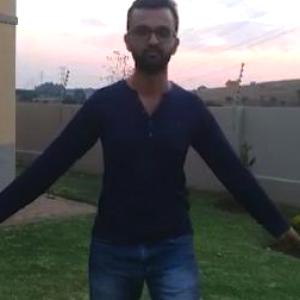land: (1, 19, 282, 299)
